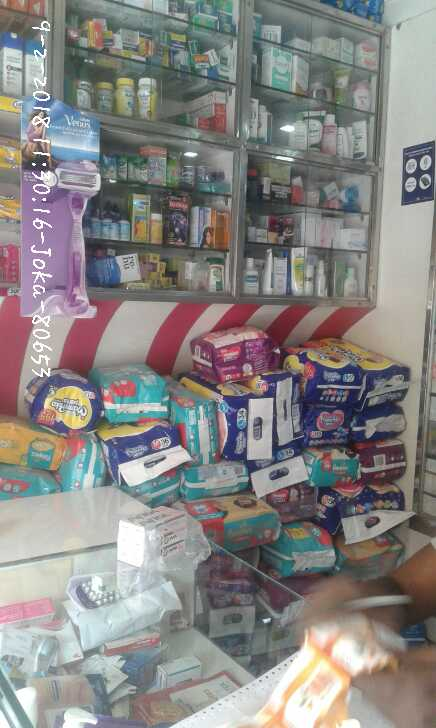pampers: (188, 494, 285, 551), (91, 358, 167, 420), (276, 520, 335, 578)
